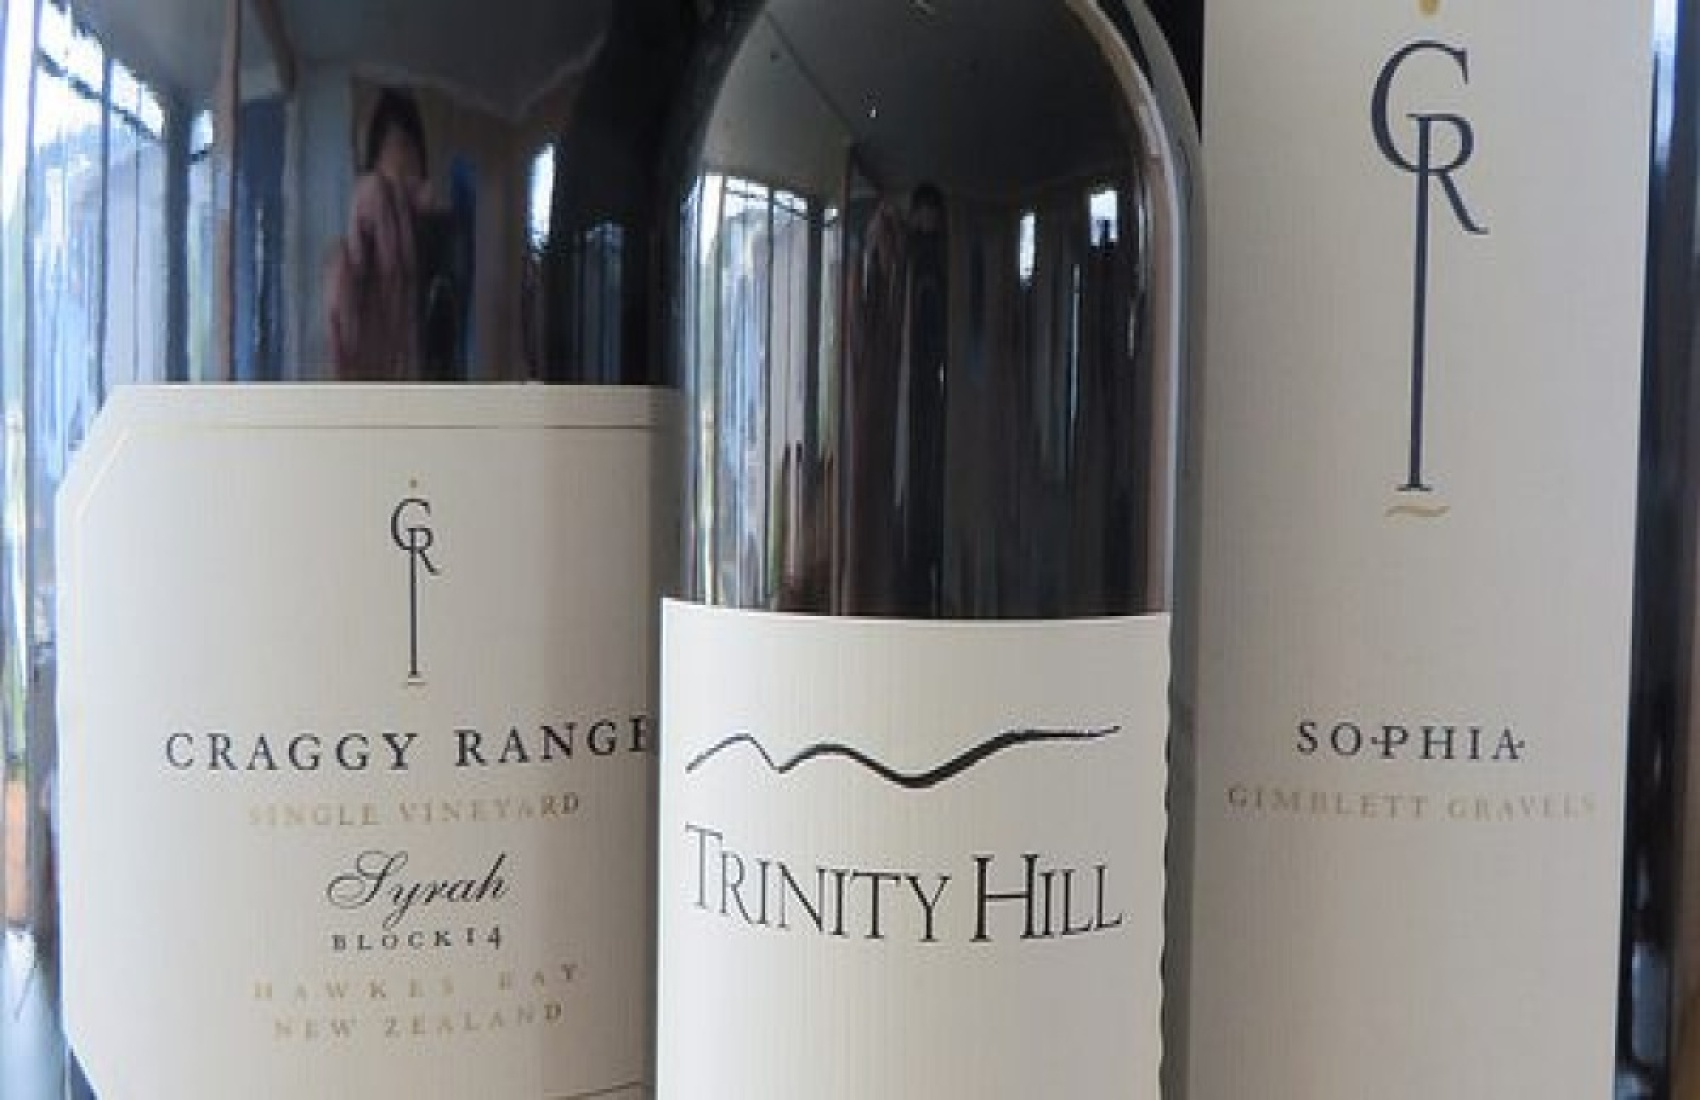wine: (33, 11, 655, 1100), (655, 5, 1185, 1100), (1176, 1, 1641, 1088)
